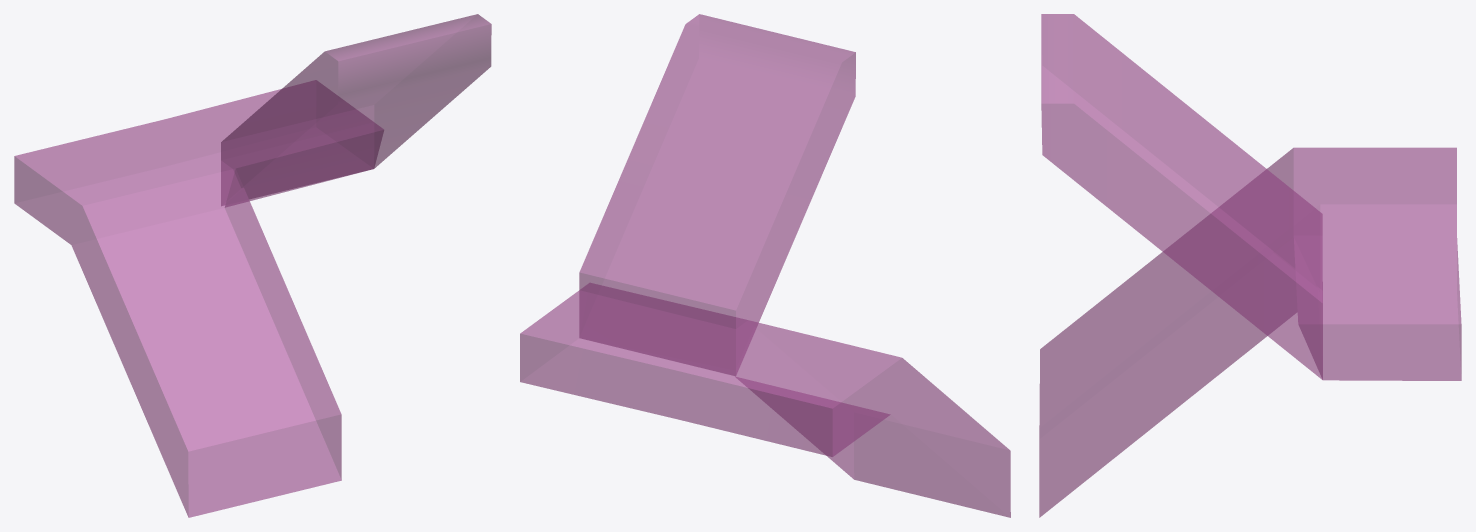
The model's file is SM_Bld_Base_Stairs_02_Collision.fbx.
3 renders of one model, left to right at view 1: azimuth 30°, elevation 25°; view 2: azimuth 150°, elevation 25°; view 3: azimuth 270°, elevation 25°, orthographic. The views are drawn at different scales.
Visible parts, largest first — view 1: SM_Bld_Base_Stairs_02_Collision; view 2: SM_Bld_Base_Stairs_02_Collision; view 3: SM_Bld_Base_Stairs_02_Collision.
Part boxes in pixels (x1,y1,x2,y2): SM_Bld_Base_Stairs_02_Collision: [14, 14, 491, 517]; SM_Bld_Base_Stairs_02_Collision: [520, 14, 1010, 517]; SM_Bld_Base_Stairs_02_Collision: [1039, 14, 1461, 517].
Size of the model in its own units: 256 by 338 by 257.
